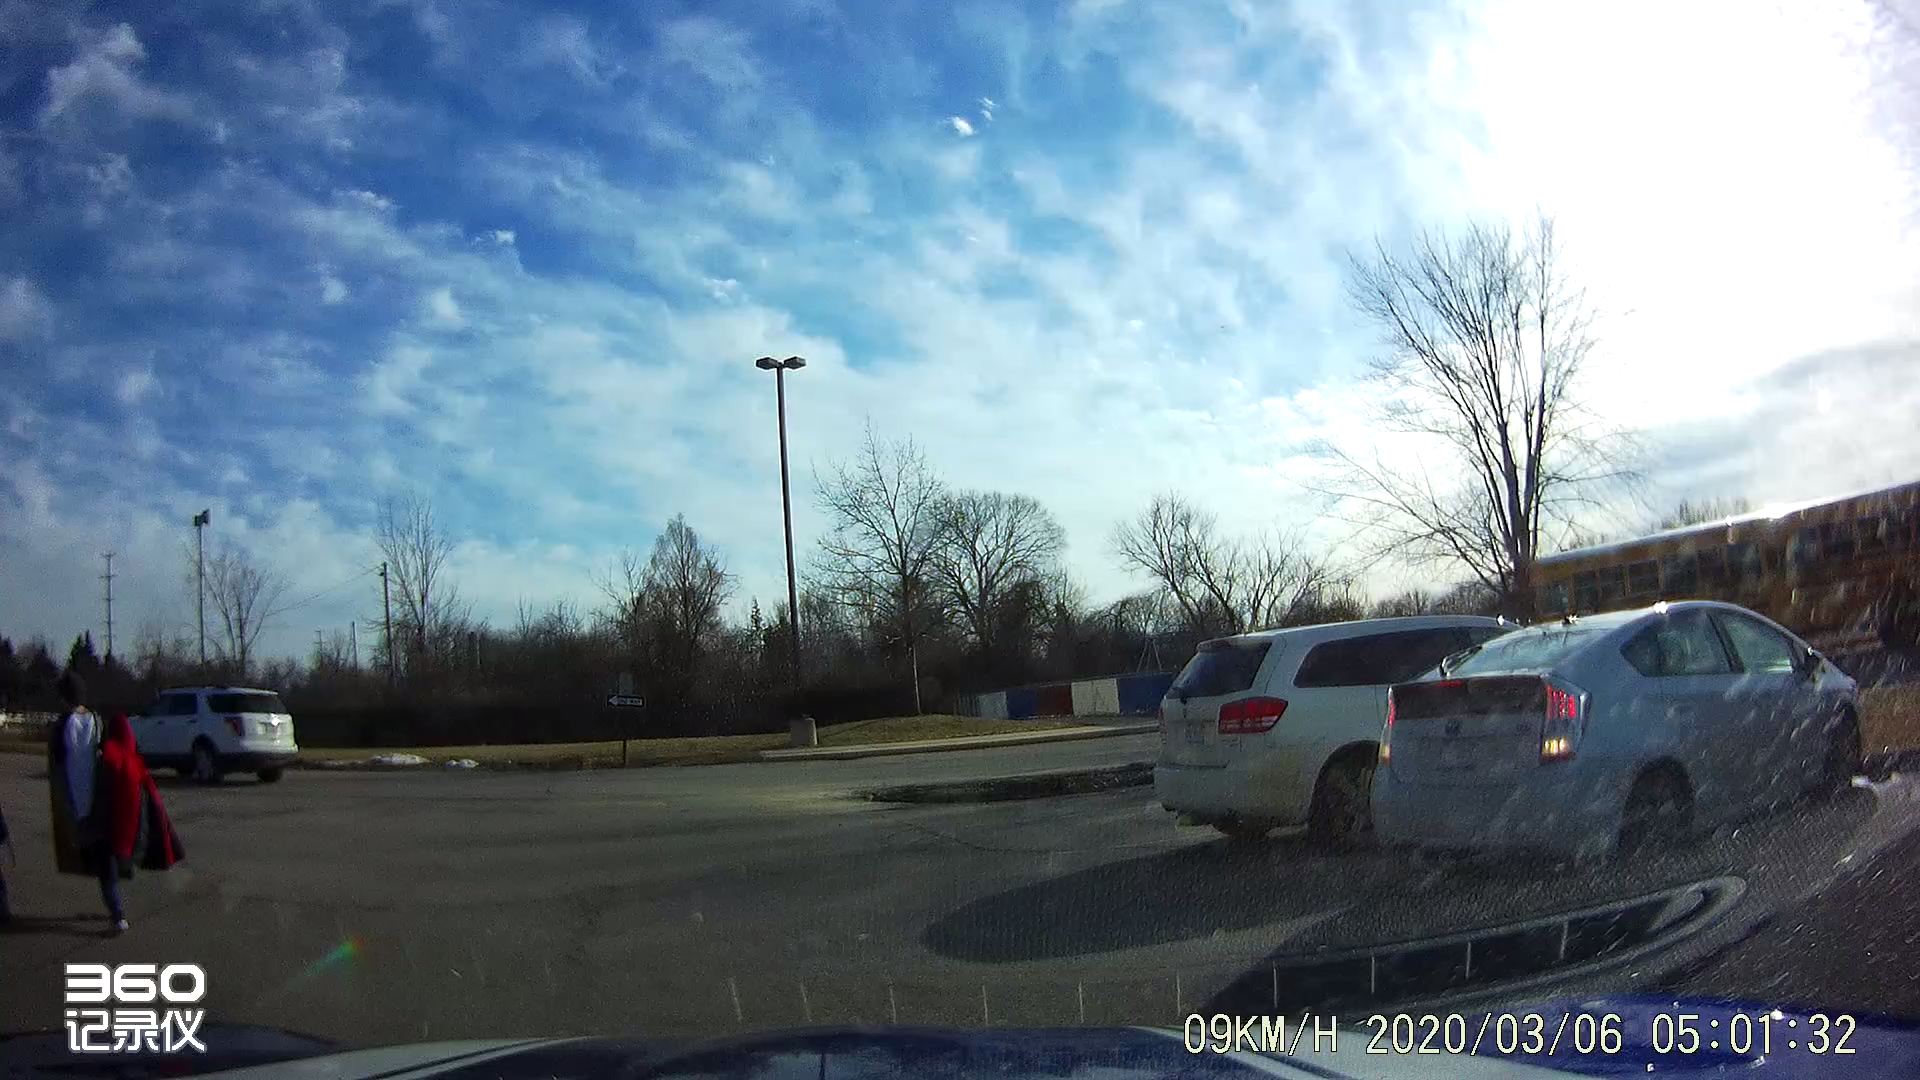License Plate: (1440, 741, 1480, 771), (1183, 722, 1207, 747)
